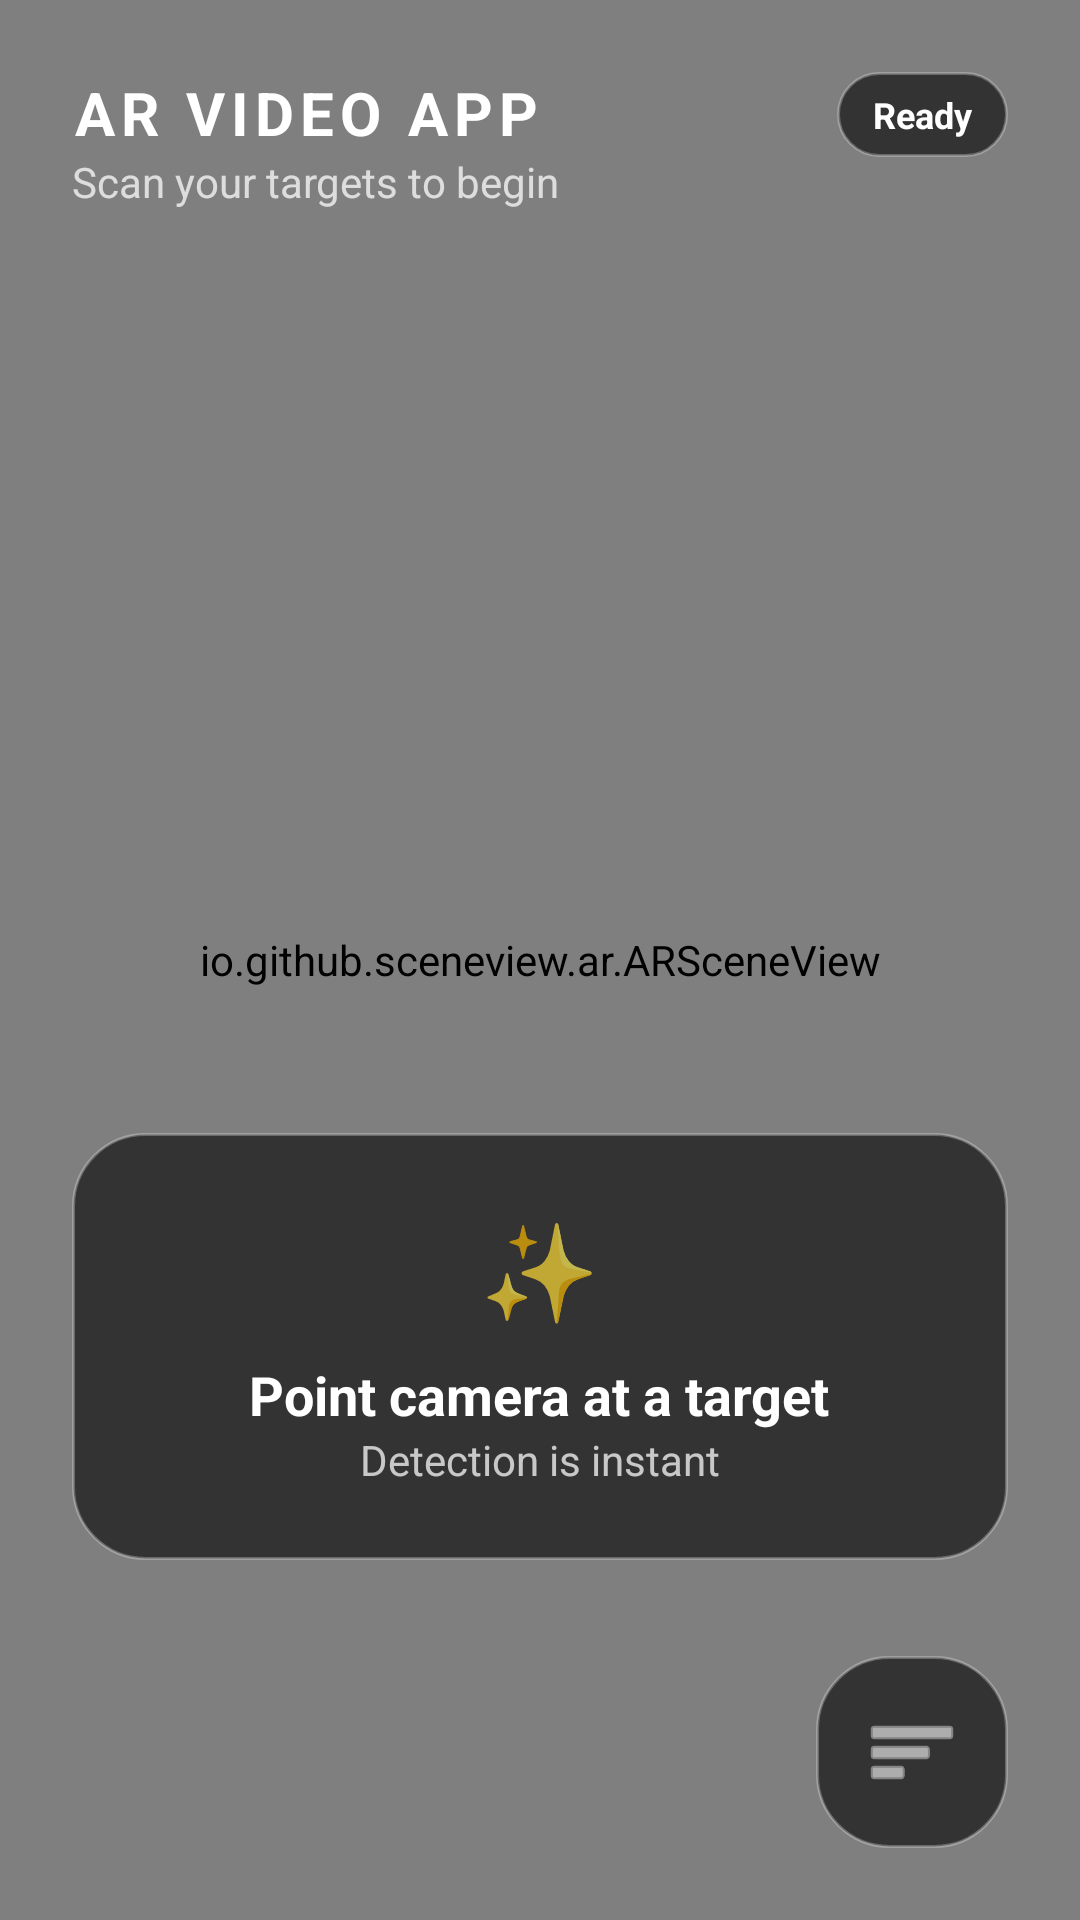

Icon bounding boxes for this 1080px x 1920px phone screenshot, format (x1, y1, x2, y2):
sort by size: (816, 1656, 1008, 1848)
